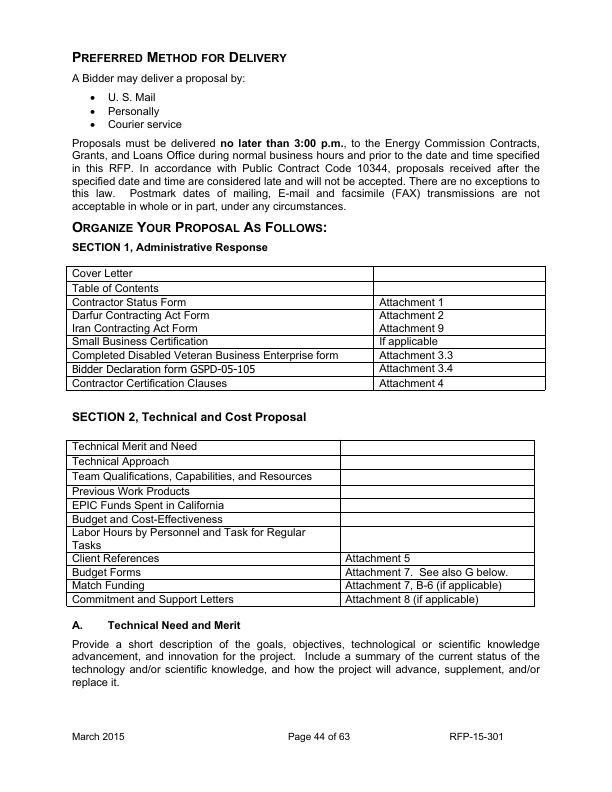table: (65, 438, 540, 613), (63, 262, 549, 394)
text: (69, 71, 546, 215), (70, 638, 544, 689), (68, 220, 333, 255), (70, 408, 308, 426), (72, 50, 288, 66), (70, 618, 243, 631)
